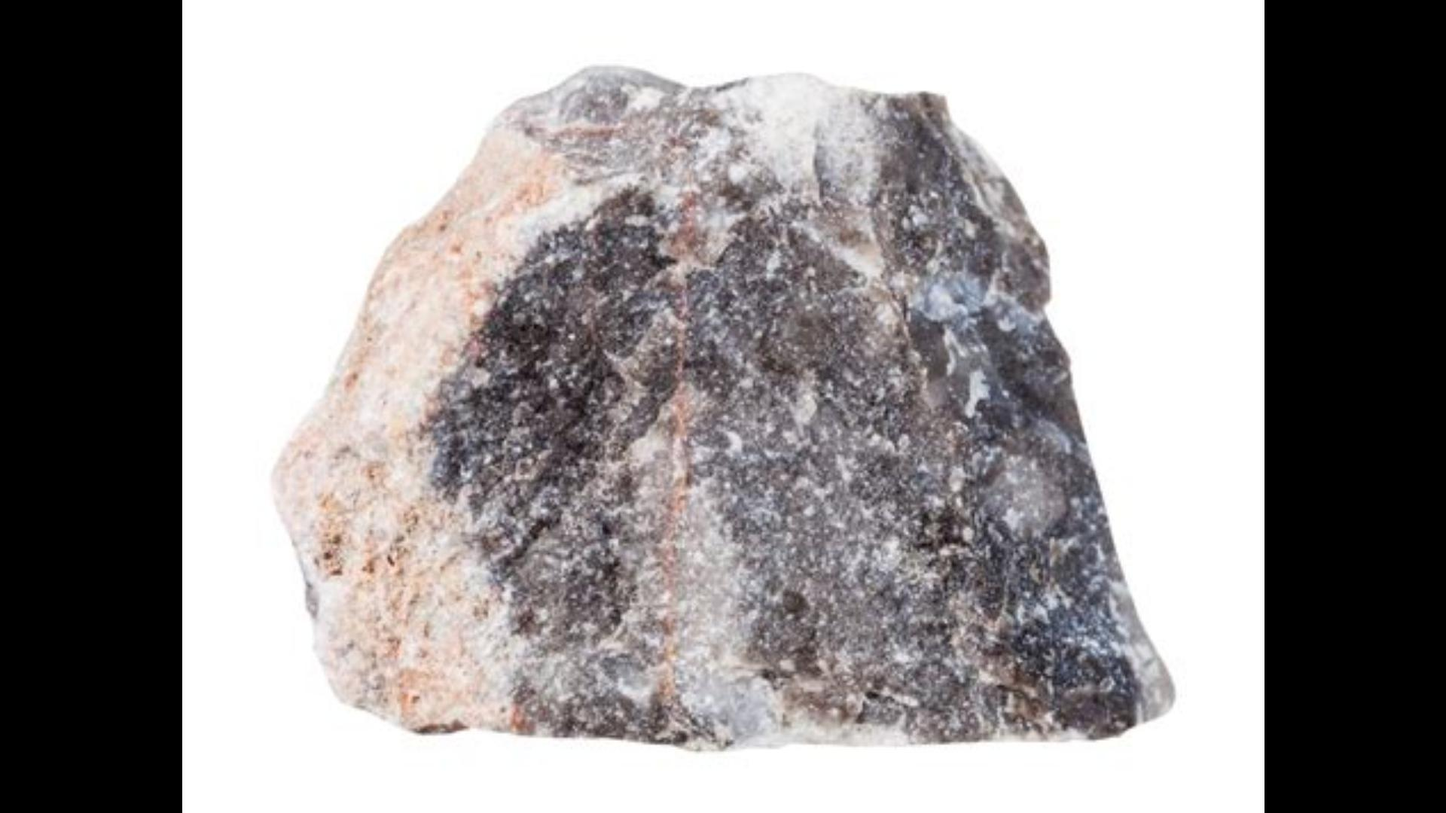rock: (275, 69, 1169, 744)
